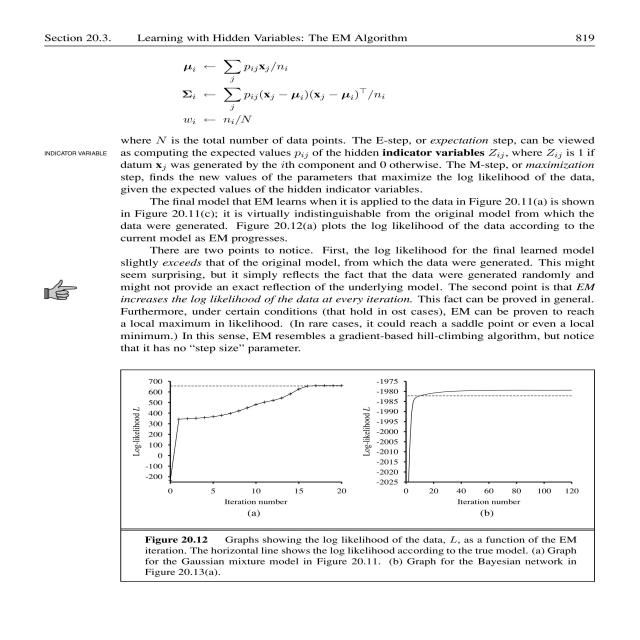diagram: (120, 374, 617, 586)
